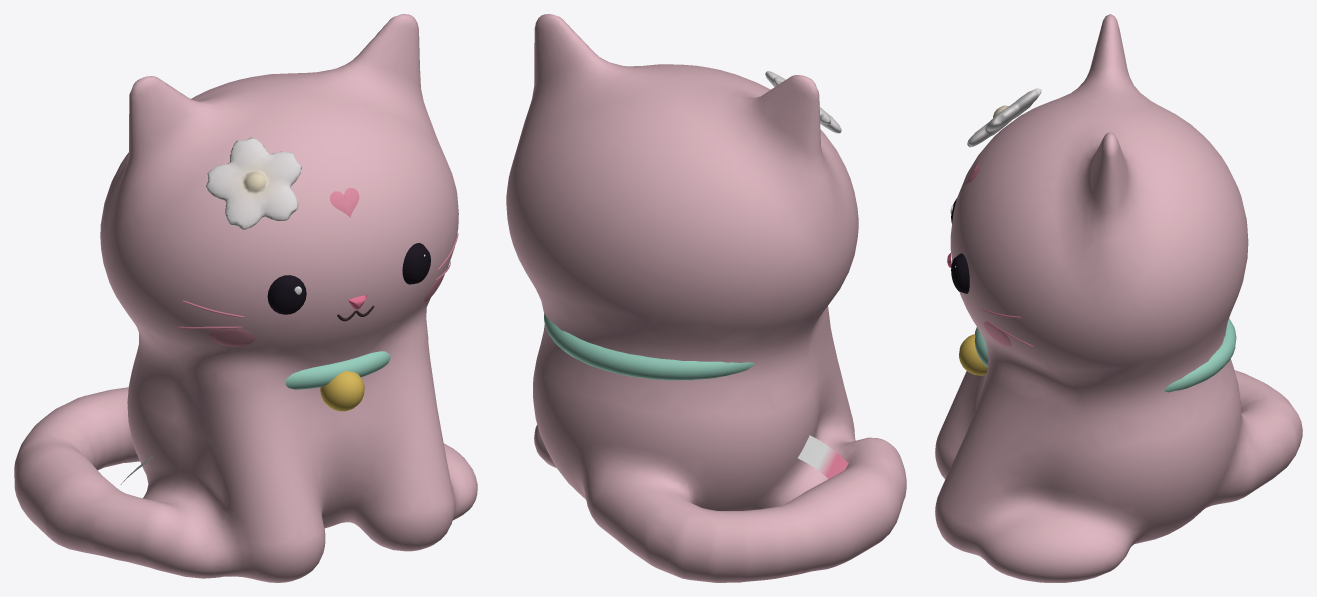
The model's file is sakuracat.glb.
3 views of the same model, side by side, from view 1: azimuth 30°, elevation 25°; view 2: azimuth 150°, elevation 25°; view 3: azimuth 270°, elevation 25° (orthographic). The views are drawn at different scales.
Visible parts, largest first — view 1: LOD0; view 2: LOD0; view 3: LOD0.
Part boxes in pixels (bbox=[...]): LOD0: bbox=[14, 14, 477, 582]; LOD0: bbox=[506, 14, 906, 582]; LOD0: bbox=[935, 14, 1302, 582].
Size of what is drawn, in the model's own units: 0.1786 by 0.2084 by 0.1547.
